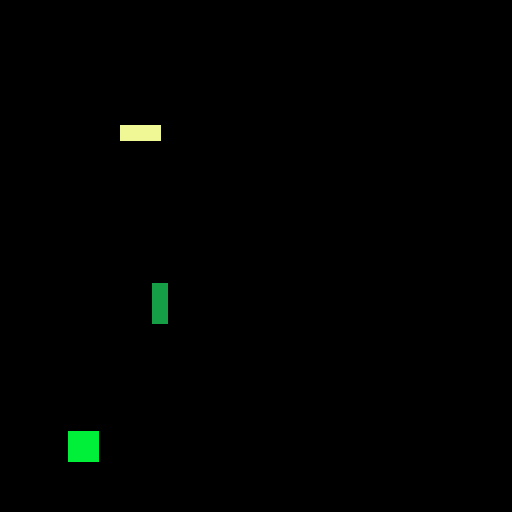side_rect: (150, 281, 172, 326), (119, 122, 163, 144)
square: (64, 429, 101, 464)
